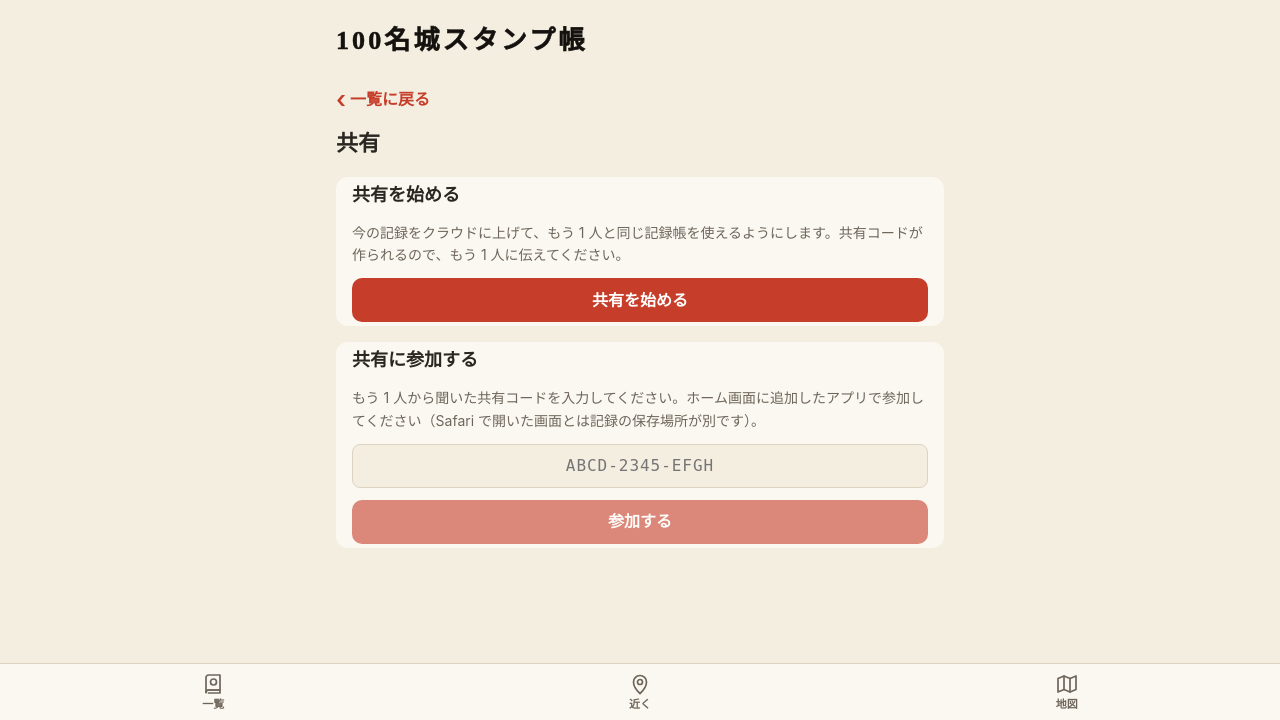
it: App › 共有画面 › 共有コードで参加すると一覧に移り、共有の記録帳を表示する
In the field named "共有コード": x=640, y=466 left=352, top=444, right=928, bottom=488, type "abcd-2345-efgh"
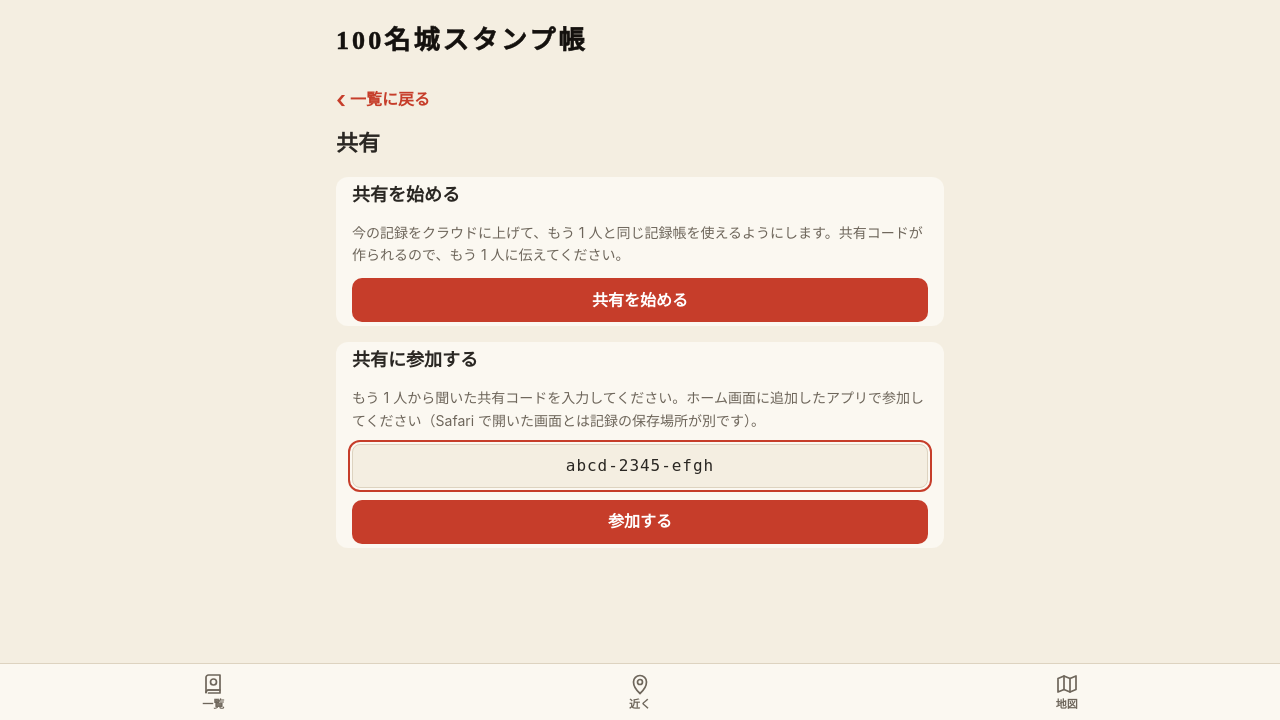
Click the button "参加する": x=640, y=522 left=352, top=500, right=928, bottom=544
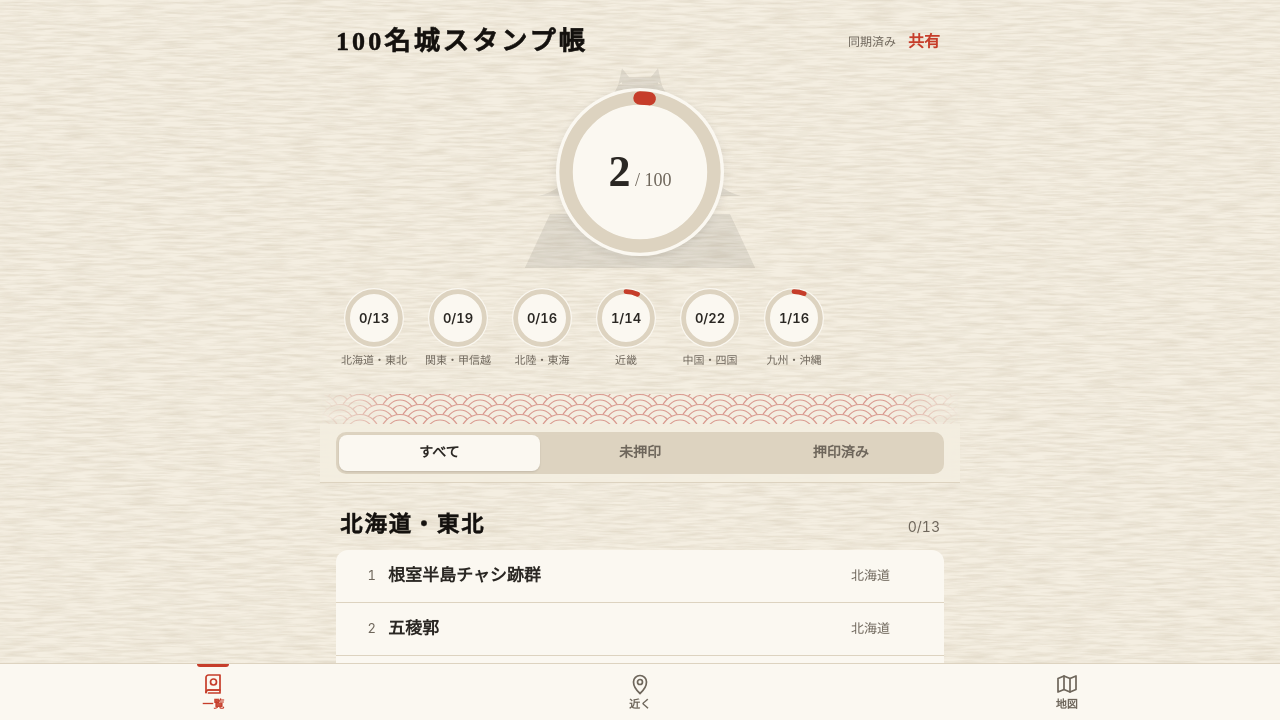
Check: the picture named "全体 2/100" is shown, box left=556, top=88, right=724, bottom=256
